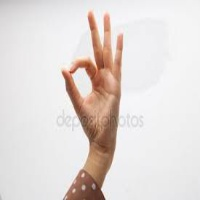ring: (102, 12, 114, 72)
